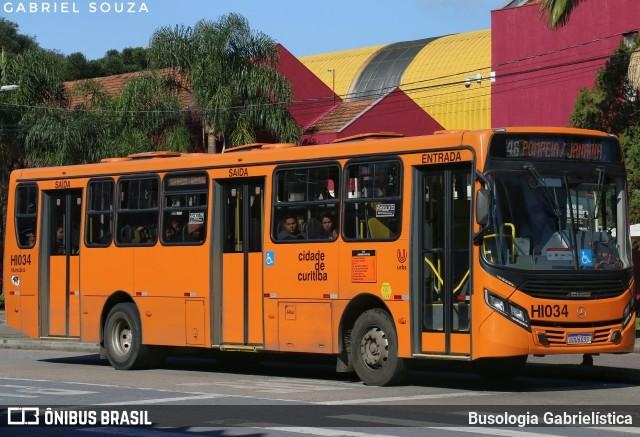POMPEIA JANAINA: (518, 136, 607, 164)
